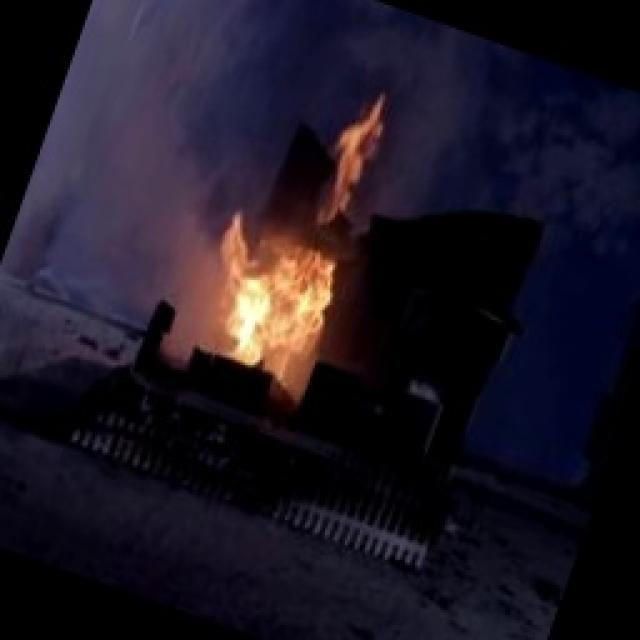fire: (174, 126, 406, 409)
